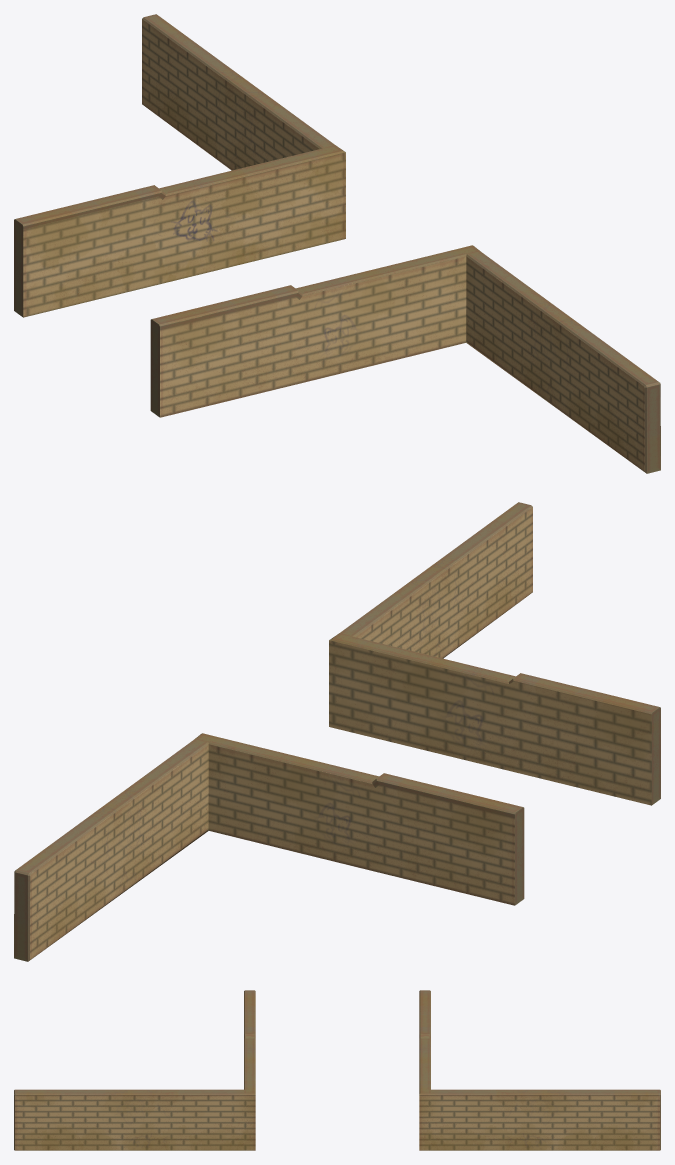
File: Wall.fbx
The picture shows the model from 3 angles, top to bottom: view 1: azimuth 30°, elevation 25°; view 2: azimuth 150°, elevation 25°; view 3: azimuth 270°, elevation 25°; orthographic projection. The views are drawn at different scales.
Visible parts, largest first — view 1: Cube; view 2: Cube; view 3: Cube.
Boxes of the visible parts, x1=… form: Cube: x1=14, y1=14, x2=660, y2=473; Cube: x1=14, y1=502, x2=660, y2=961; Cube: x1=14, y1=990, x2=660, y2=1150.
Size of the model in its own units: 734 by 201 by 1988.
